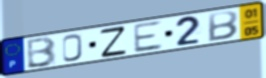0: (61, 33, 84, 63)
2: (175, 14, 205, 50)
B: (207, 10, 240, 43), (26, 36, 58, 70)
E: (132, 20, 164, 54)
Z: (99, 24, 129, 59)
